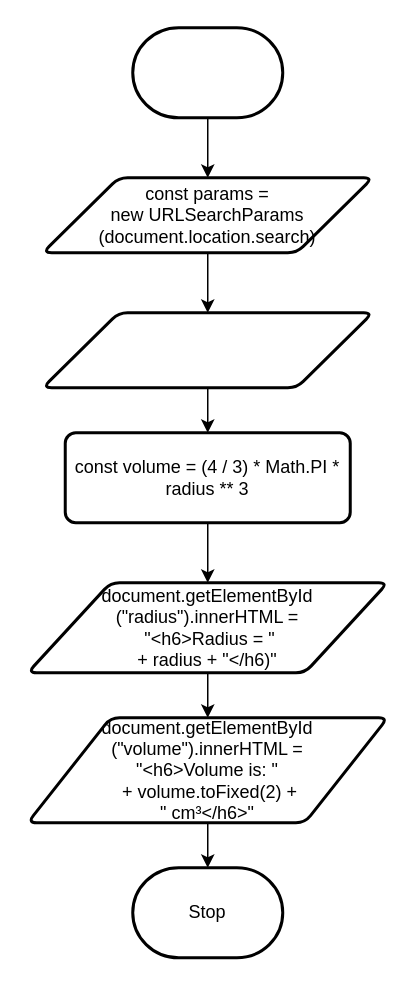
Image size: 414x984. Some labels were removed from this diagram. The shapes that lost their labels are listed below. From the top down, each one's centre as x and y in pixels, then its label:
[207,72]: Start
[207,349]: const radius = parseFloat(params.get("r"))
